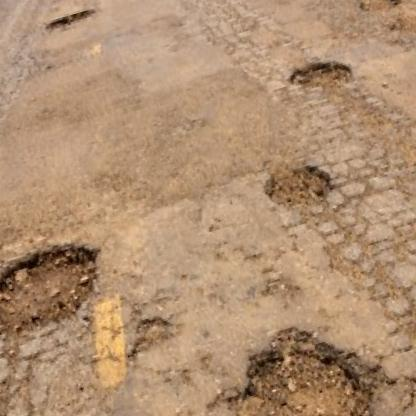pothole: (208, 305, 392, 416), (0, 233, 112, 345), (262, 156, 337, 216), (288, 52, 357, 100), (118, 308, 178, 361), (380, 1, 416, 40), (43, 6, 96, 29), (356, 0, 404, 17)
